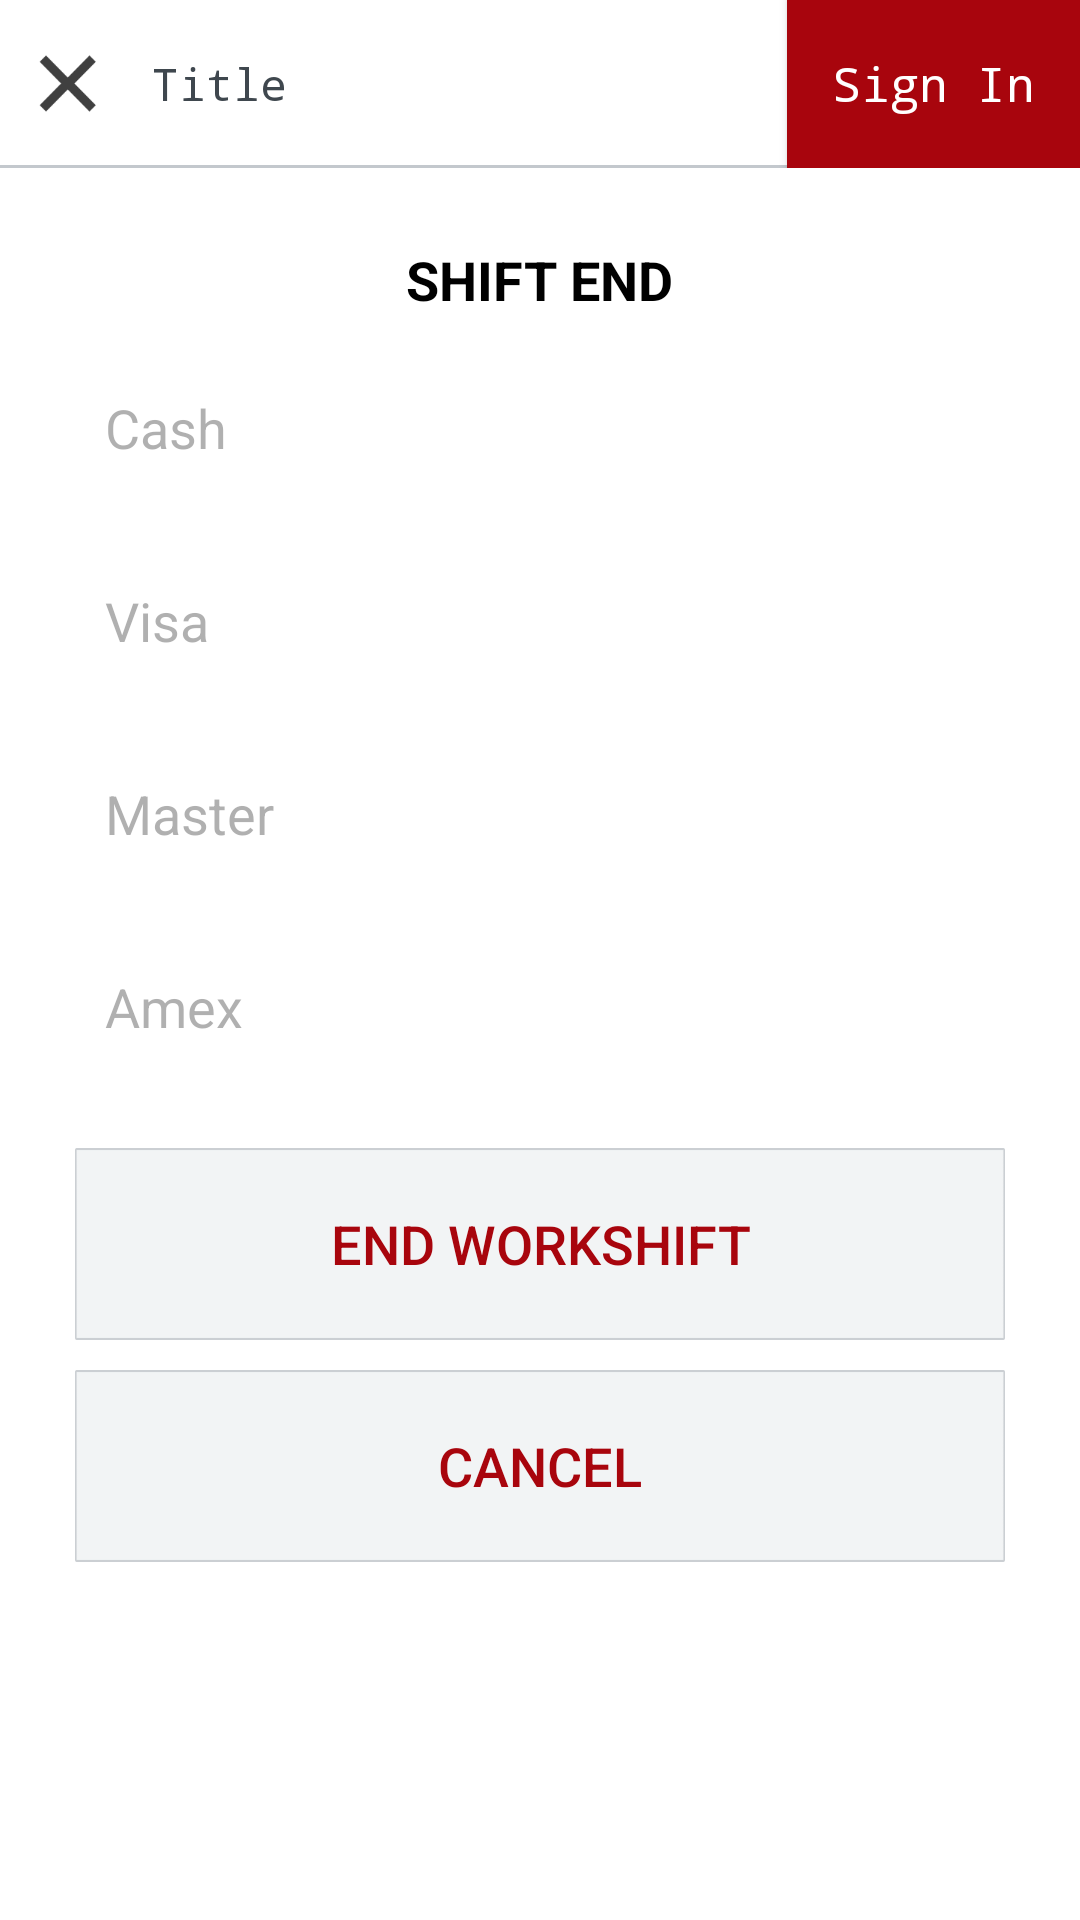

Named icons in this screenshot (1080x1920) and their centers, point (x, y):
close: point (68, 83)
